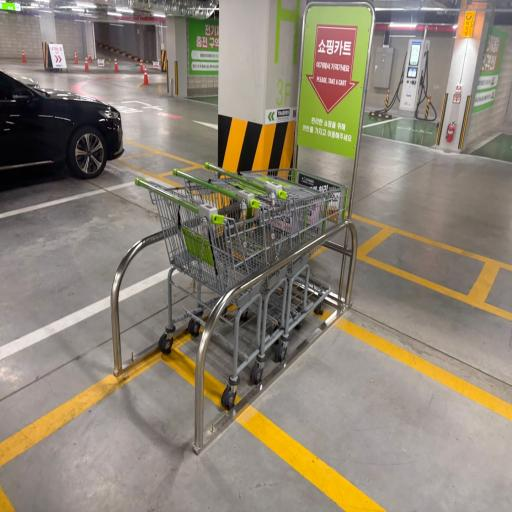combined_cart: (114, 163, 357, 455)
